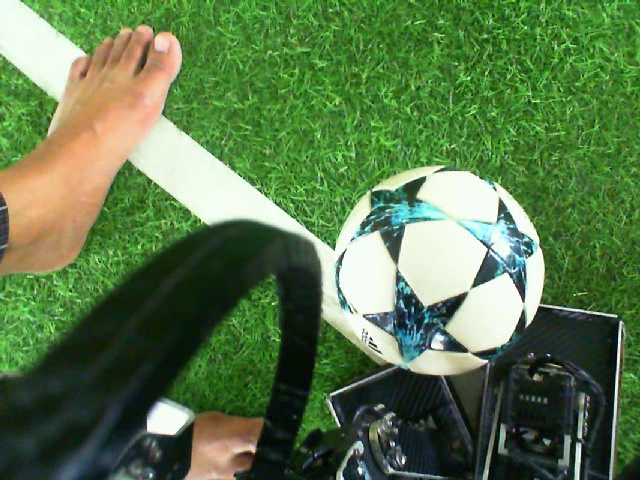ball: (327, 162, 547, 380)
